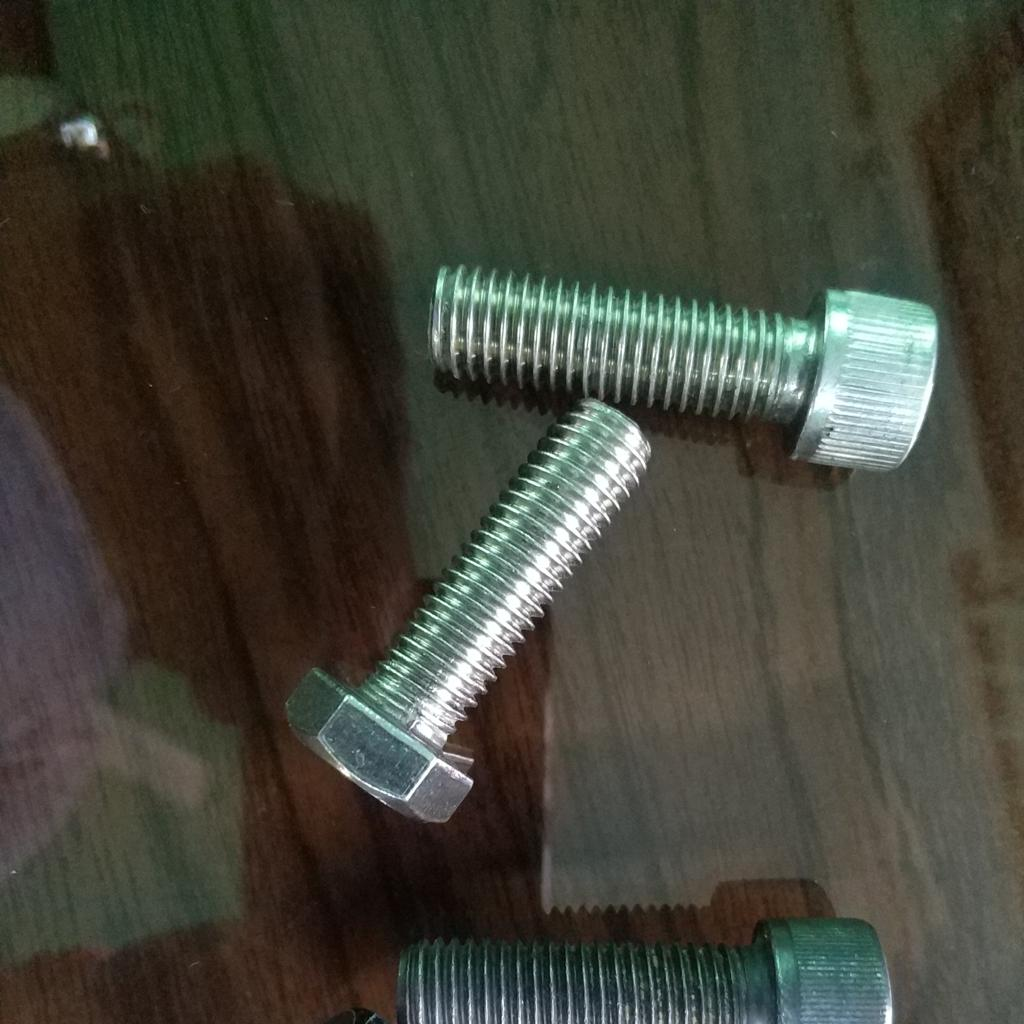screwtype1black: (370, 911, 899, 1024)
screwtype1silver: (417, 236, 937, 483)
screwtype2silver: (276, 392, 654, 828)
